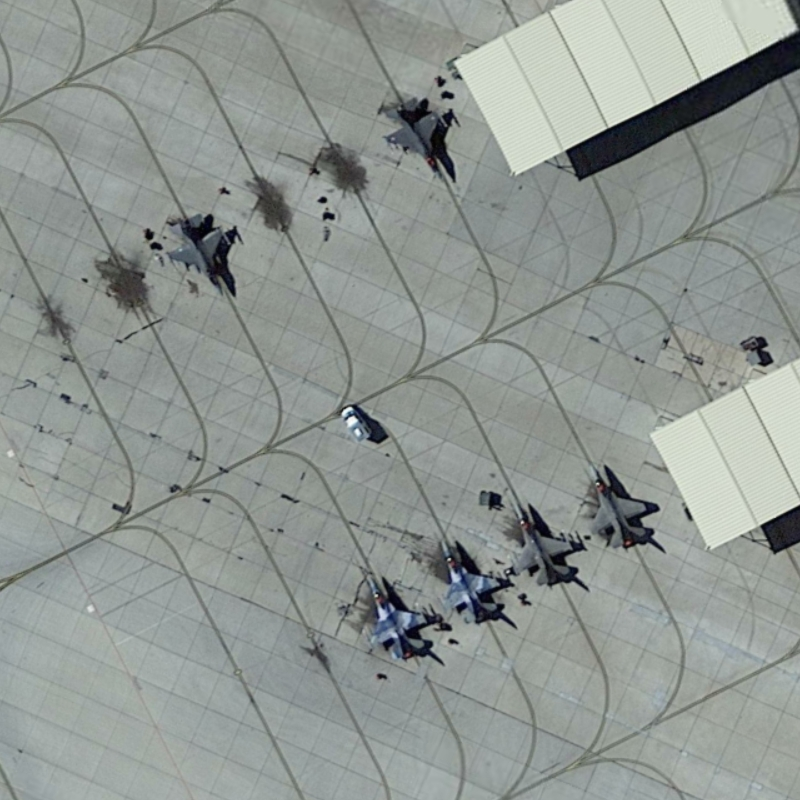A5: (370, 89, 465, 186), (498, 494, 588, 589), (352, 568, 439, 666), (576, 456, 665, 550), (159, 204, 243, 298), (436, 537, 515, 622)
